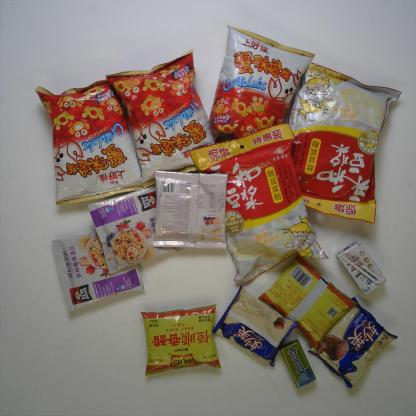Dessert: (306, 293, 401, 390), (209, 282, 302, 368)
Gum: (276, 337, 319, 392)
Instant Drink: (187, 122, 331, 284), (283, 61, 405, 226), (85, 184, 186, 276), (50, 228, 149, 313), (151, 169, 230, 251)
Milk: (335, 238, 388, 297)
Puffed Food: (104, 47, 216, 190), (33, 78, 143, 207), (208, 21, 318, 139)
Seasoner: (257, 251, 358, 353), (138, 299, 226, 378)
